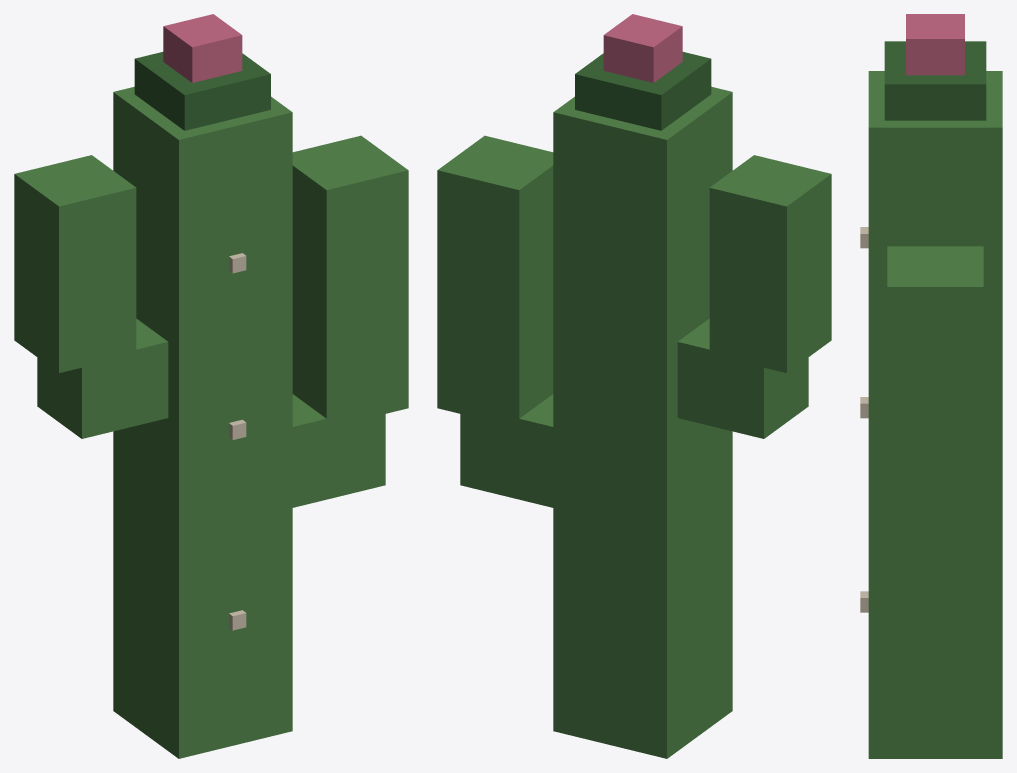
Rendered from dd_cactus.glb.
The picture shows the model from 3 angles, left to right: view 1: azimuth 30°, elevation 25°; view 2: azimuth 150°, elevation 25°; view 3: azimuth 270°, elevation 25°; orthographic projection. The views are drawn at different scales.
Parts seen in each view (by area): view 1: DUBG_dd_cactus; view 2: DUBG_dd_cactus; view 3: DUBG_dd_cactus.
Part boxes in pixels (x1,y1,x2,y2): DUBG_dd_cactus: (14,14,408,758); DUBG_dd_cactus: (437,14,831,758); DUBG_dd_cactus: (860,14,1002,758).
Size of the model in its own units: 3.56 by 6.76 by 1.23.
